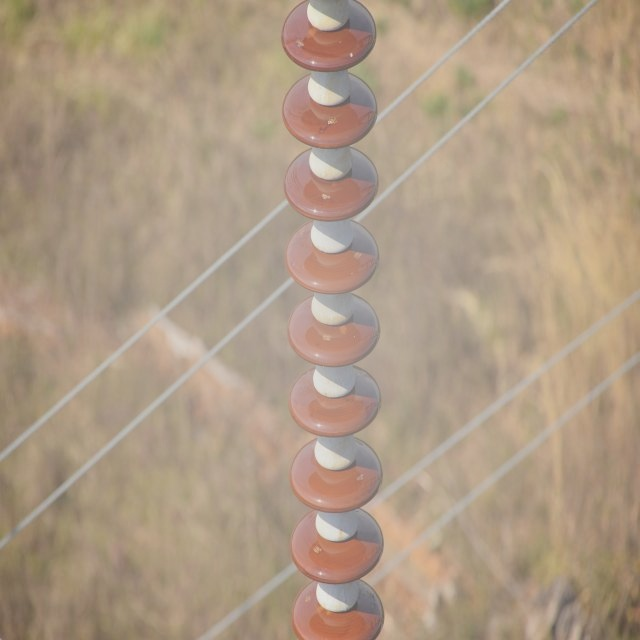insulator: (280, 3, 386, 640)
